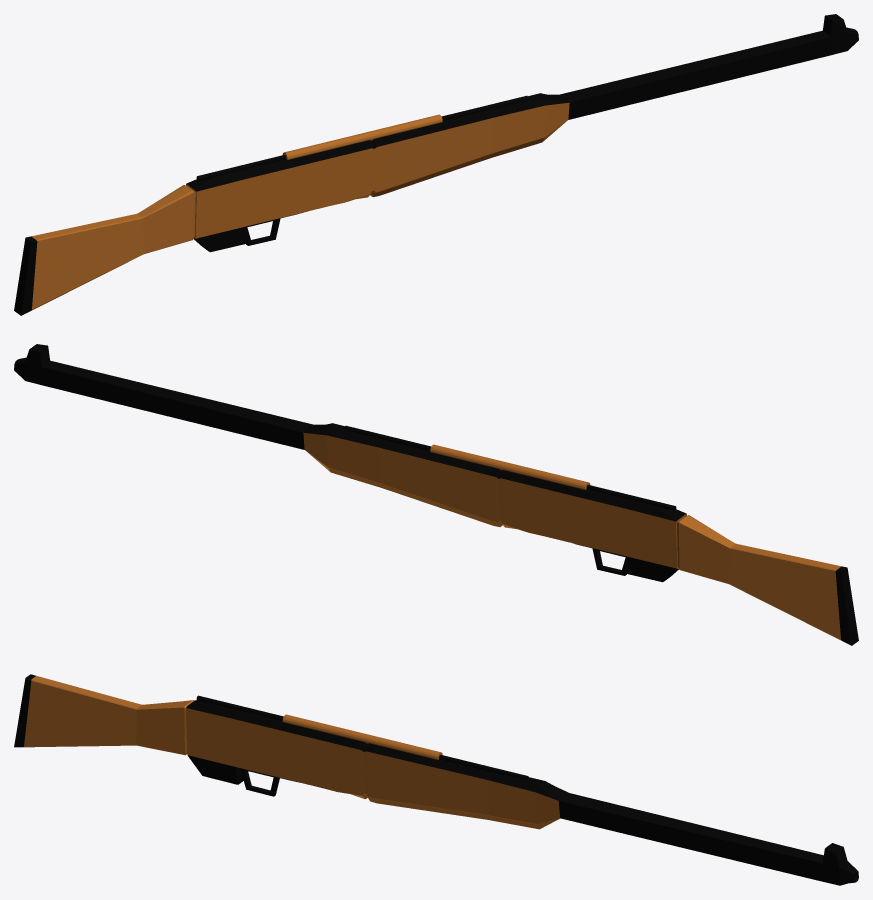
Rendered from rifle 1.fbx.
3 views of the same model, one above another, from view 1: azimuth 30°, elevation 25°; view 2: azimuth 150°, elevation 25°; view 3: azimuth 330°, elevation 25° (orthographic).
Parts seen in each view (by area): view 1: Plane.006; view 2: Plane.006; view 3: Plane.006.
Boxes of the visible parts, x1=… form: Plane.006: x1=14, y1=14, x2=858, y2=315; Plane.006: x1=14, y1=344, x2=858, y2=645; Plane.006: x1=14, y1=674, x2=858, y2=885.
Bounding box in the file's own units: 203 × 22.49 × 4.56.
